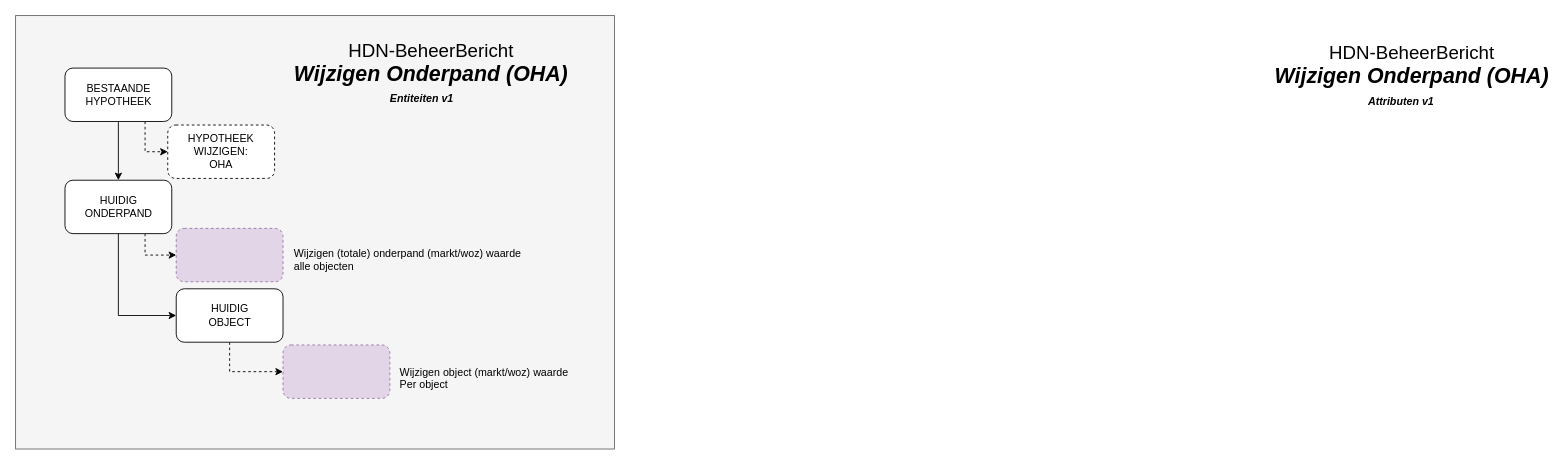
Some shapes in this 1566 by 465 pixel diagram are drawn without their labels. The shapes that lost their labels are listed below. From the top down, each one's box as (x1, y1, x2, y2) in pixels, then its label:
(175, 227, 283, 282): Mutatie Onderpand
(282, 344, 390, 398): Mutatie Object
